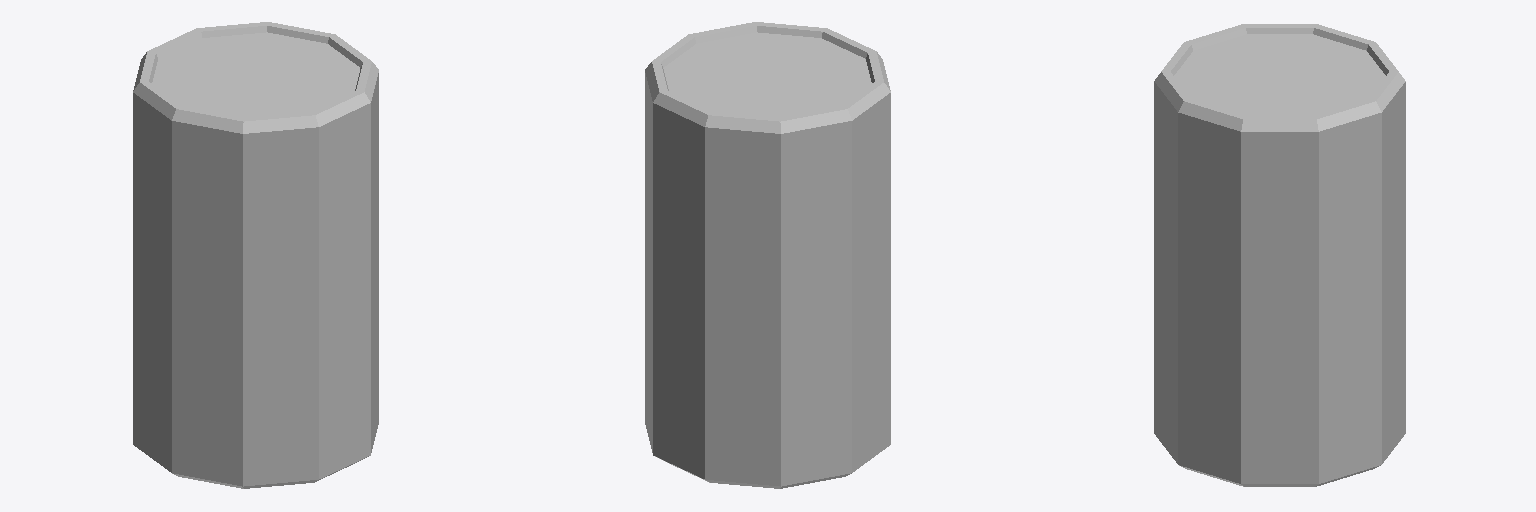
Rendered from drinks_can.obj.
3 renders of one model, left to right at view 1: azimuth 30°, elevation 25°; view 2: azimuth 150°, elevation 25°; view 3: azimuth 270°, elevation 25°, orthographic.
Parts seen in each view (by area): view 1: drinks_can_Cylinder.005; view 2: drinks_can_Cylinder.005; view 3: drinks_can_Cylinder.005.
Part boxes in pixels (left/top/right/bottom): drinks_can_Cylinder.005: left=133, top=22, right=378, bottom=488; drinks_can_Cylinder.005: left=645, top=22, right=890, bottom=488; drinks_can_Cylinder.005: left=1154, top=24, right=1405, bottom=486.
Bounding box in the file's own units: 0.2137 × 0.363 × 0.2247.